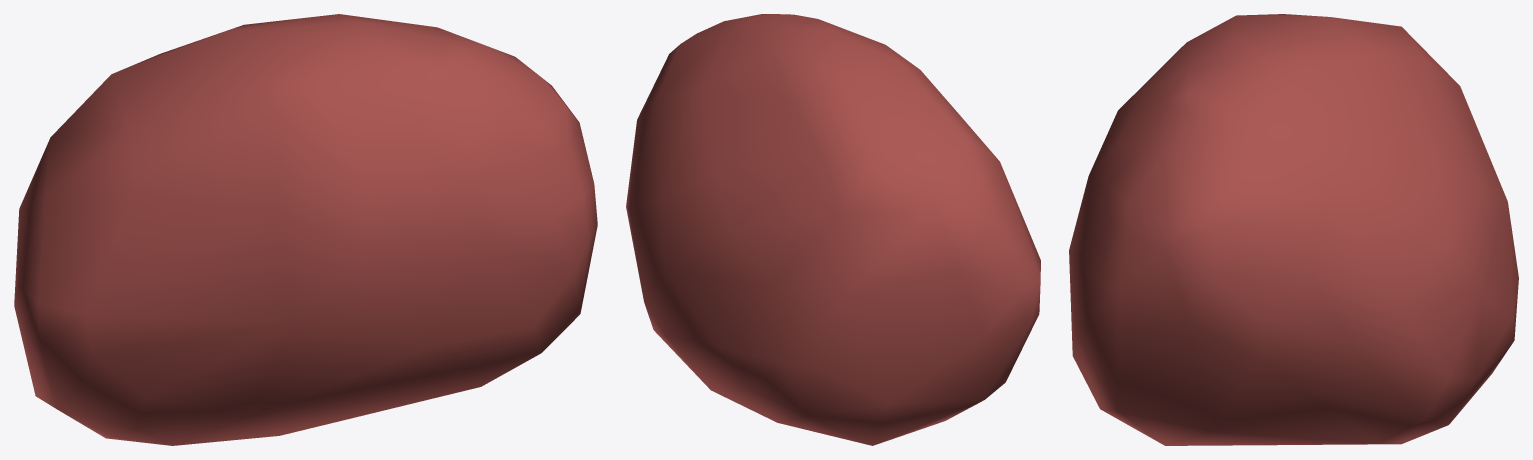
The model's file is FMA73423.glb.
3 renders of one model, left to right at view 1: azimuth 30°, elevation 25°; view 2: azimuth 150°, elevation 25°; view 3: azimuth 270°, elevation 25°, orthographic. The views are drawn at different scales.
Visible parts, largest first — view 1: FMA73423; view 2: FMA73423; view 3: FMA73423.
Boxes of the visible parts, left/top/right/bottom form: FMA73423: left=14, top=14, right=597, bottom=445; FMA73423: left=626, top=14, right=1040, bottom=445; FMA73423: left=1069, top=14, right=1518, bottom=445.
Size of the model in its own units: 0.00744 by 0.00579 by 0.00576.
